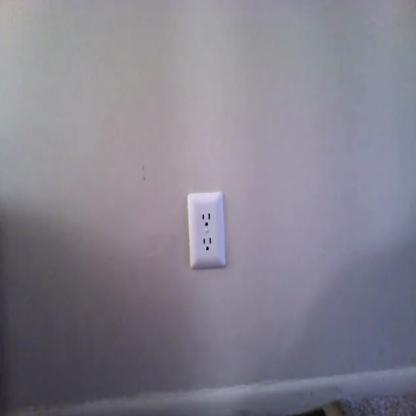OUTLET: (186, 191, 227, 270)
